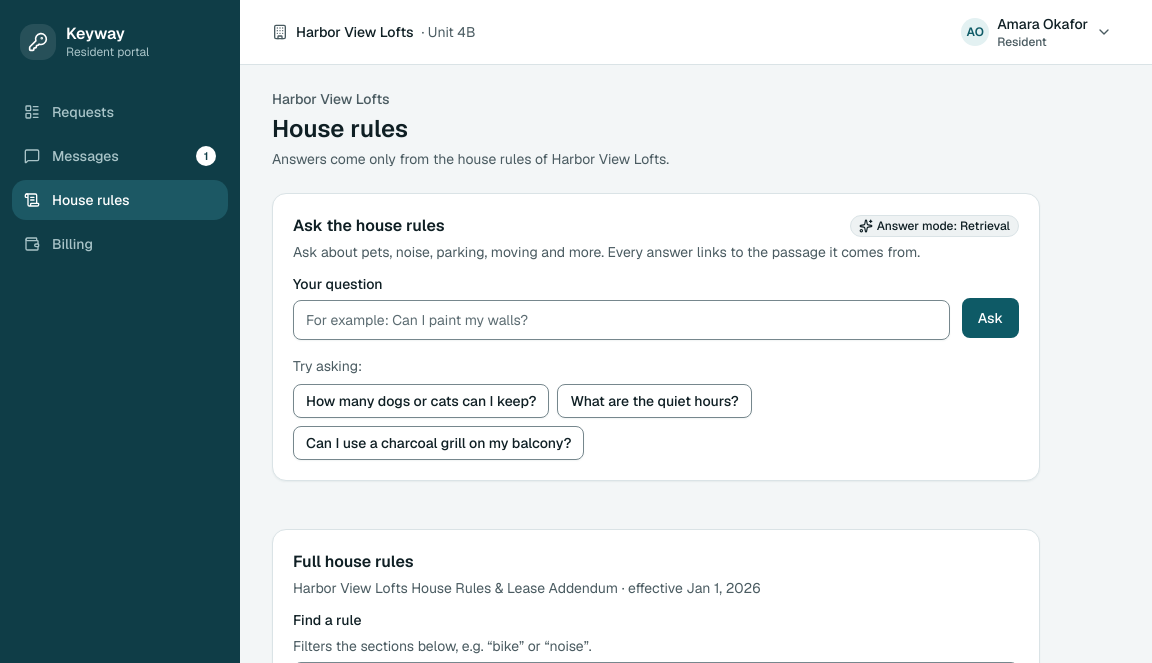
Test: house rules assistant › rejects very short questions inline
Type "hi" into the field labelled "Your question" at (622, 320), box [293,300,950,340]
Then press Enter
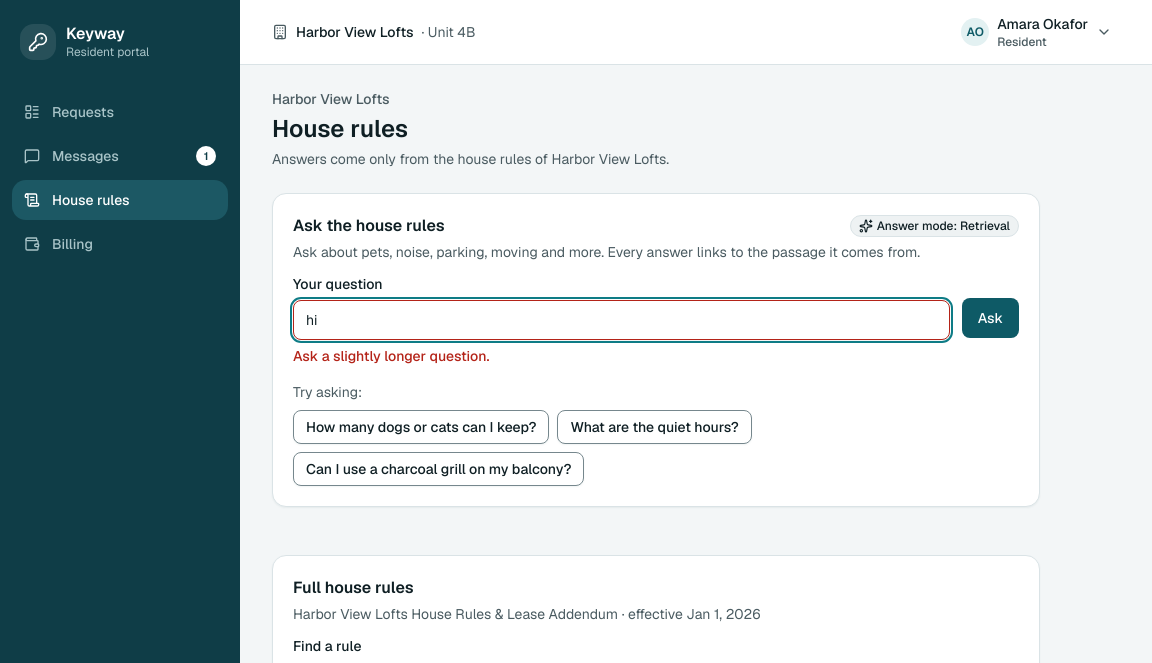
Expected: the text "Ask a slightly longer question." is shown, [293,347,489,365]
